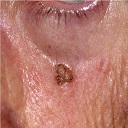Actinic: (51, 60, 75, 87)
